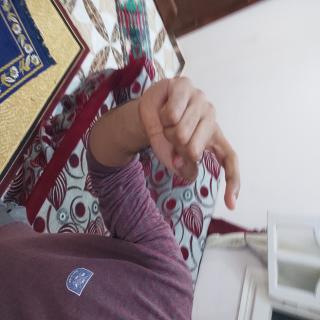RAA: (50, 96, 164, 248)
